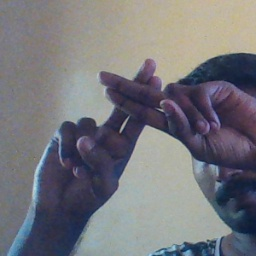F: (74, 53, 199, 168)
